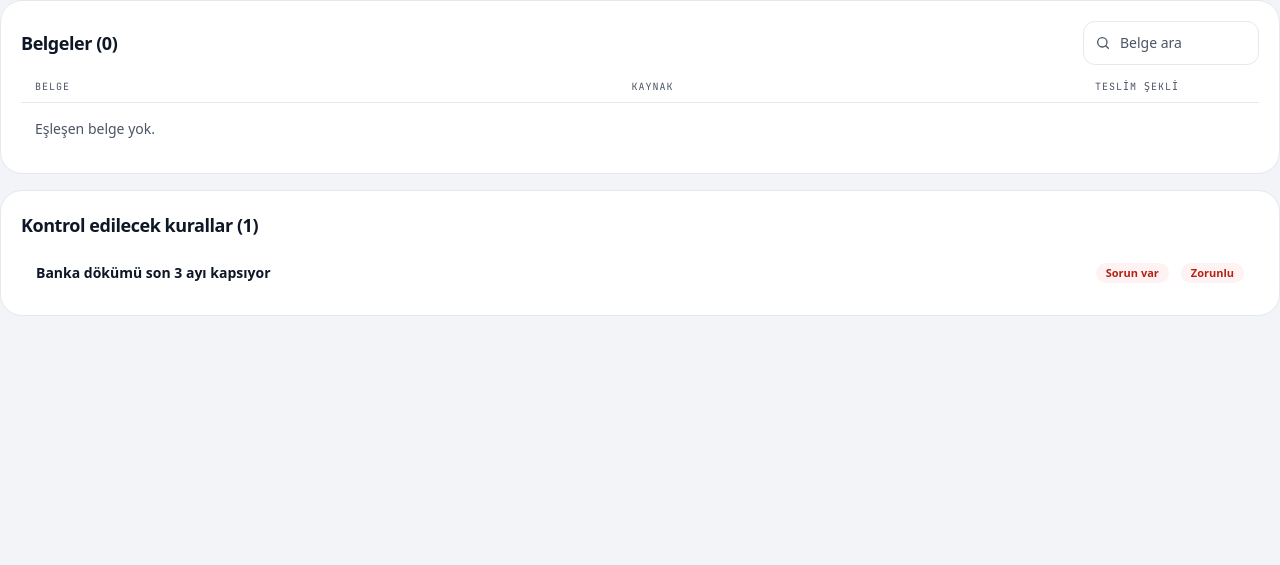
it: findings › show the state of each rule in the list and the finding of the selected one
What coordinates should you click on to do the following:
click the button "Banka dökümü son 3 ayı kapsıyor Sorun var Zorunlu"
I would click on:
 (153, 272)
Its box is [21, 251, 1259, 295].
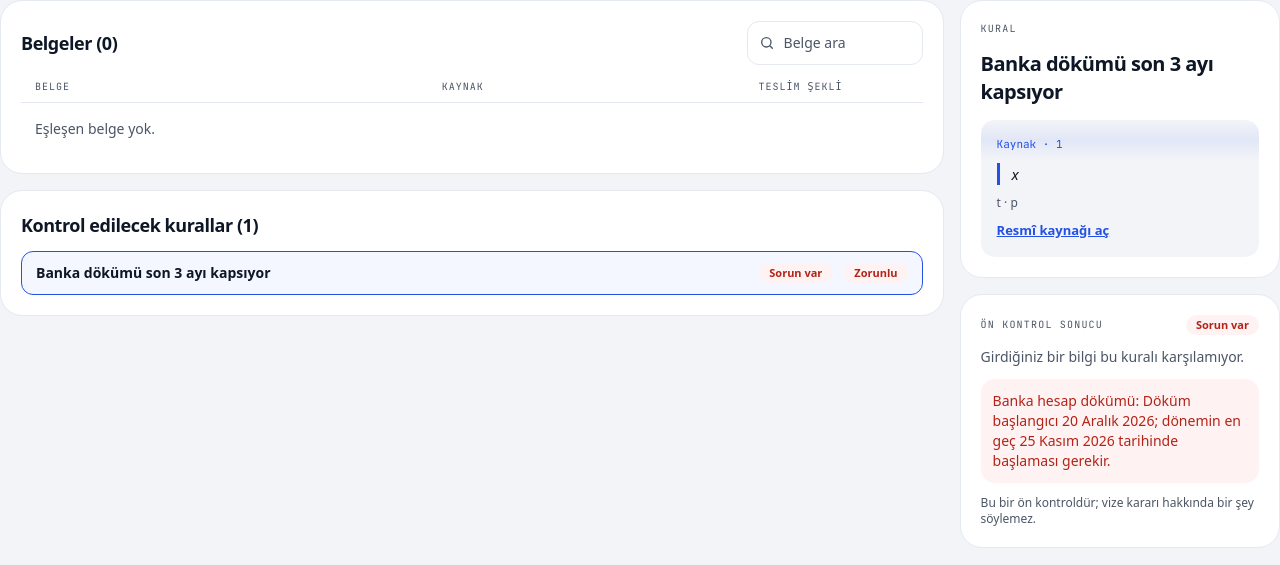
Check: the heading "Ön kontrol sonucu" is shown, box [981, 317, 1103, 332]
